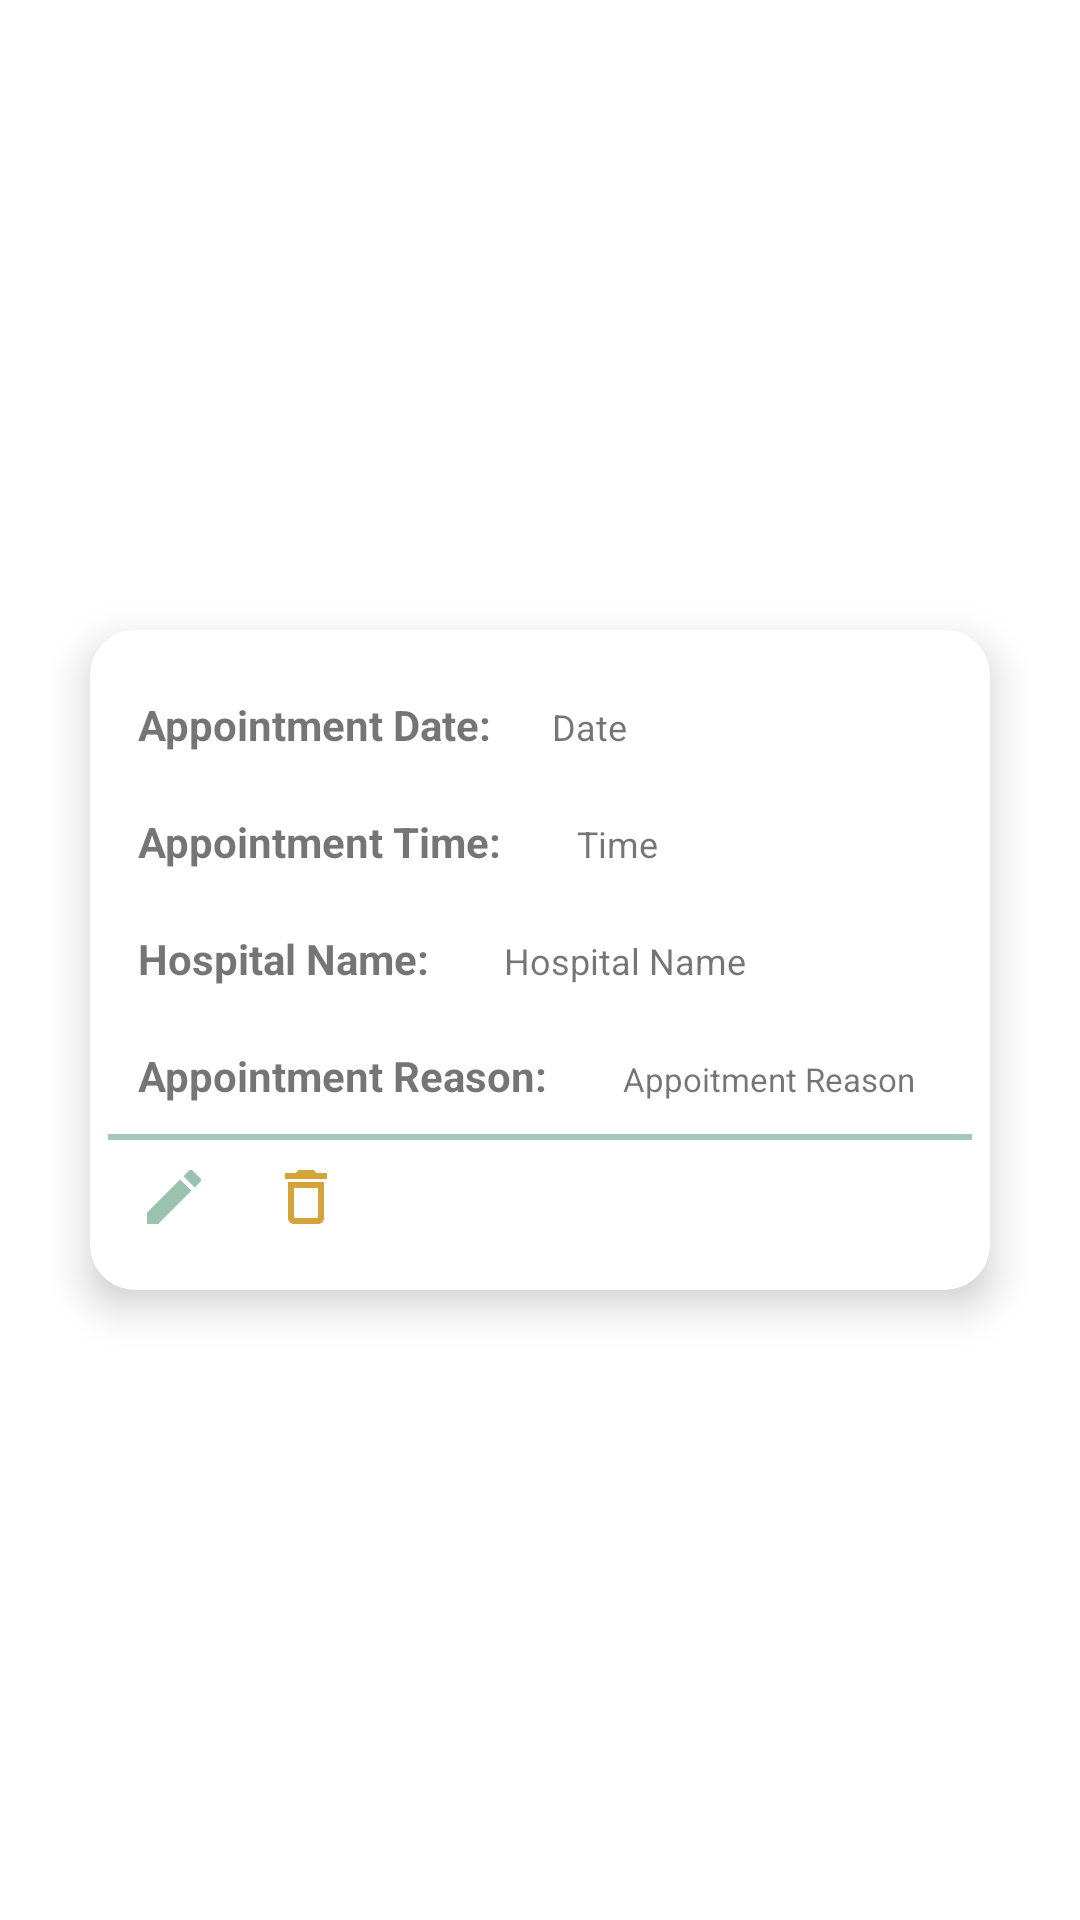

Named icons in this screenshot (1080 x 1920) and their bounding boxes, (x1, y1, x2, y2):
delete: (285, 1170, 327, 1224)
edit: (147, 1170, 201, 1224)
